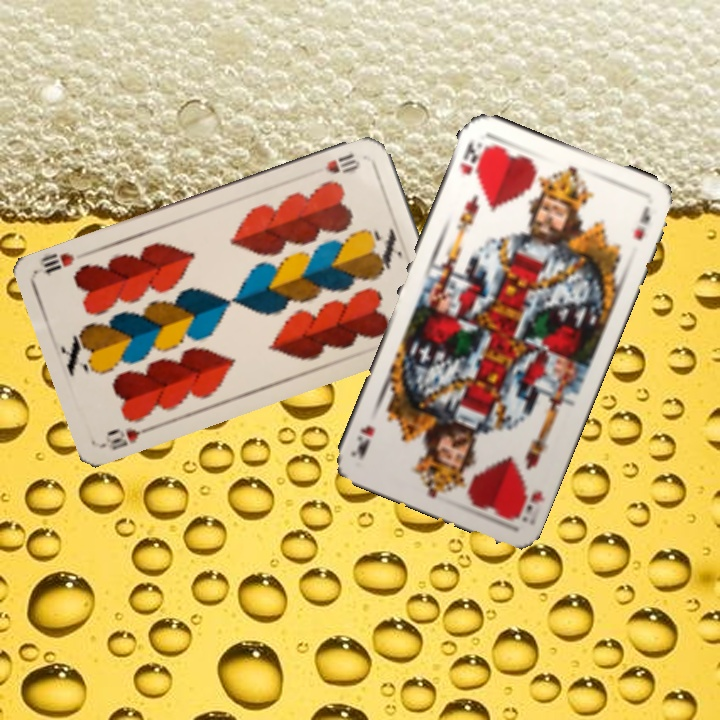H10: (102, 421, 156, 453), (321, 149, 363, 176)
HK: (456, 137, 489, 178), (518, 487, 546, 525)
